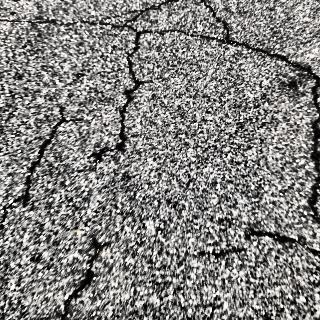crack: (0, 72, 82, 230), (118, 36, 164, 166), (1, 12, 237, 35), (60, 233, 111, 317), (238, 41, 320, 82), (246, 224, 320, 258), (303, 83, 320, 226)
